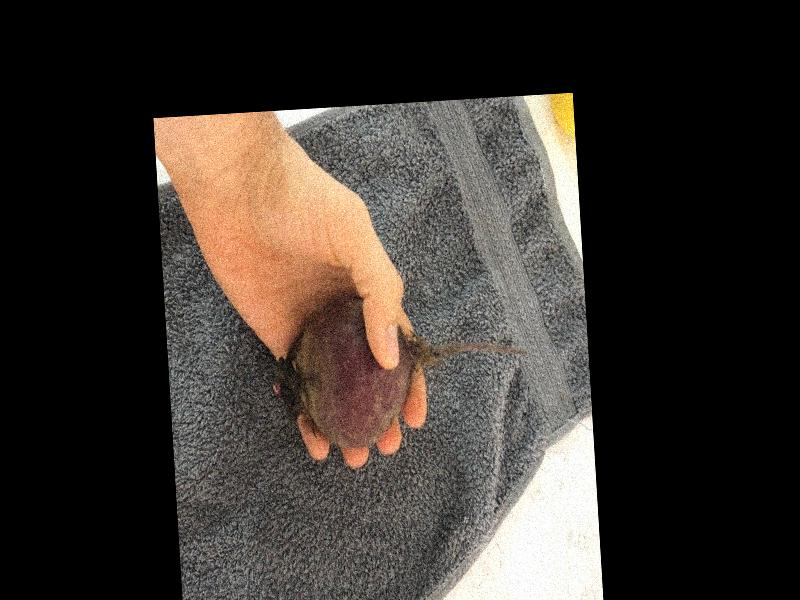Beet: (273, 286, 531, 454)
